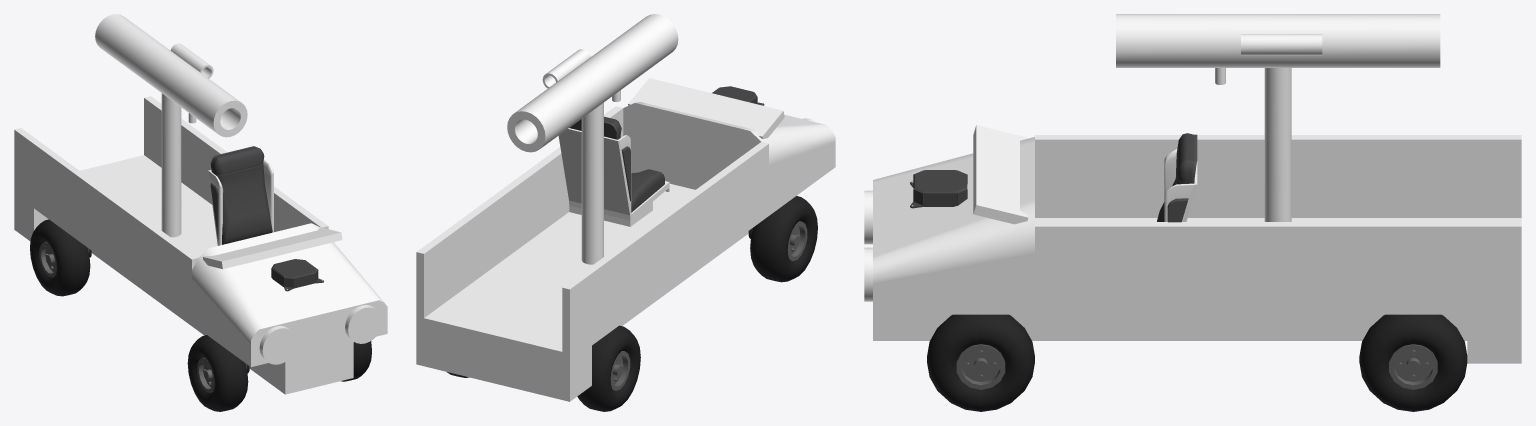
The model's file is Jihad Zooker_export.obj.
3 views of the same model, side by side, from view 1: azimuth 30°, elevation 25°; view 2: azimuth 150°, elevation 25°; view 3: azimuth 270°, elevation 25° (orthographic). The views are drawn at different scales.
Visible parts, largest first — view 1: Mesh_25, Mesh_0, Mesh_29, ChairMesh_27, Mesh_1, TireNormal_11, TireNormal_15, Mesh_28, Mesh_6, Cube_2, Mesh_8, Mesh_7 (+5 smaller); view 2: Mesh_25, Mesh_0, Mesh_29, ChairMesh_27, Mesh_6, TireNormal_11, Mesh_28, Mesh_3, TireNormal_15, Mesh_4, Mesh_5, Mesh_30 (+3 smaller); view 3: Mesh_25, Mesh_0, Mesh_29, Mesh_26, TireNormal_19, TireNormal_23, Mesh_6, Mesh_28, Mesh_5, ChairMesh_27, Mesh_3, Mesh_1 (+4 smaller).
Part boxes in pixels (x1,y1,x2,y2): Mesh_25: (14, 96, 328, 323); Mesh_0: (192, 223, 387, 366); Mesh_29: (95, 14, 247, 137); ChairMesh_27: (208, 146, 273, 245); Mesh_1: (249, 342, 353, 394); TireNormal_11: (187, 335, 248, 411); TireNormal_15: (30, 219, 90, 296); Mesh_28: (161, 93, 181, 237); Mesh_6: (203, 227, 342, 269); Cube_2: (271, 259, 323, 291); Mesh_8: (345, 305, 382, 343); Mesh_7: (259, 326, 296, 364); Mesh_25: (416, 106, 768, 361); Mesh_0: (623, 102, 835, 215); Mesh_29: (507, 14, 678, 152); ChairMesh_27: (558, 116, 669, 226); Mesh_6: (628, 78, 784, 138); TireNormal_11: (750, 196, 817, 282); Mesh_28: (581, 102, 603, 264); Mesh_3: (454, 325, 619, 392); TireNormal_15: (577, 325, 640, 411); Mesh_4: (531, 346, 591, 401); Mesh_5: (416, 324, 454, 373); Mesh_30: (542, 49, 590, 88); Mesh_25: (1035, 135, 1521, 314); Mesh_0: (873, 137, 1034, 314); Mesh_29: (1116, 14, 1440, 67); Mesh_26: (1035, 314, 1305, 340); TireNormal_19: (1359, 314, 1467, 411); TireNormal_23: (927, 314, 1034, 411); Mesh_6: (973, 125, 1028, 224); Mesh_28: (1264, 68, 1291, 221); Mesh_5: (1467, 314, 1521, 363); ChairMesh_27: (1157, 133, 1197, 222); Mesh_3: (1305, 314, 1467, 340); Mesh_1: (873, 314, 1034, 340).
Size of the model in its own units: 1.13 by 1.79 by 3.04.
Materials: 1 (1 with a texture image).
